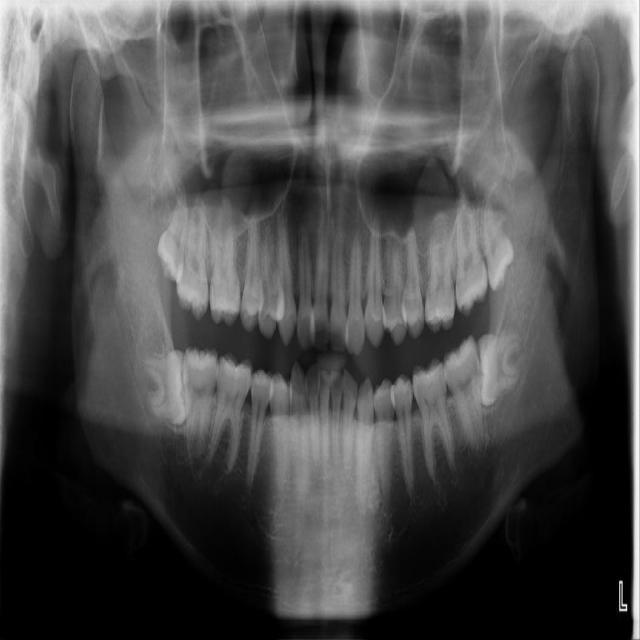impacted tooth: (478, 332, 526, 407), (481, 192, 514, 290), (138, 353, 184, 422), (158, 195, 189, 278)
